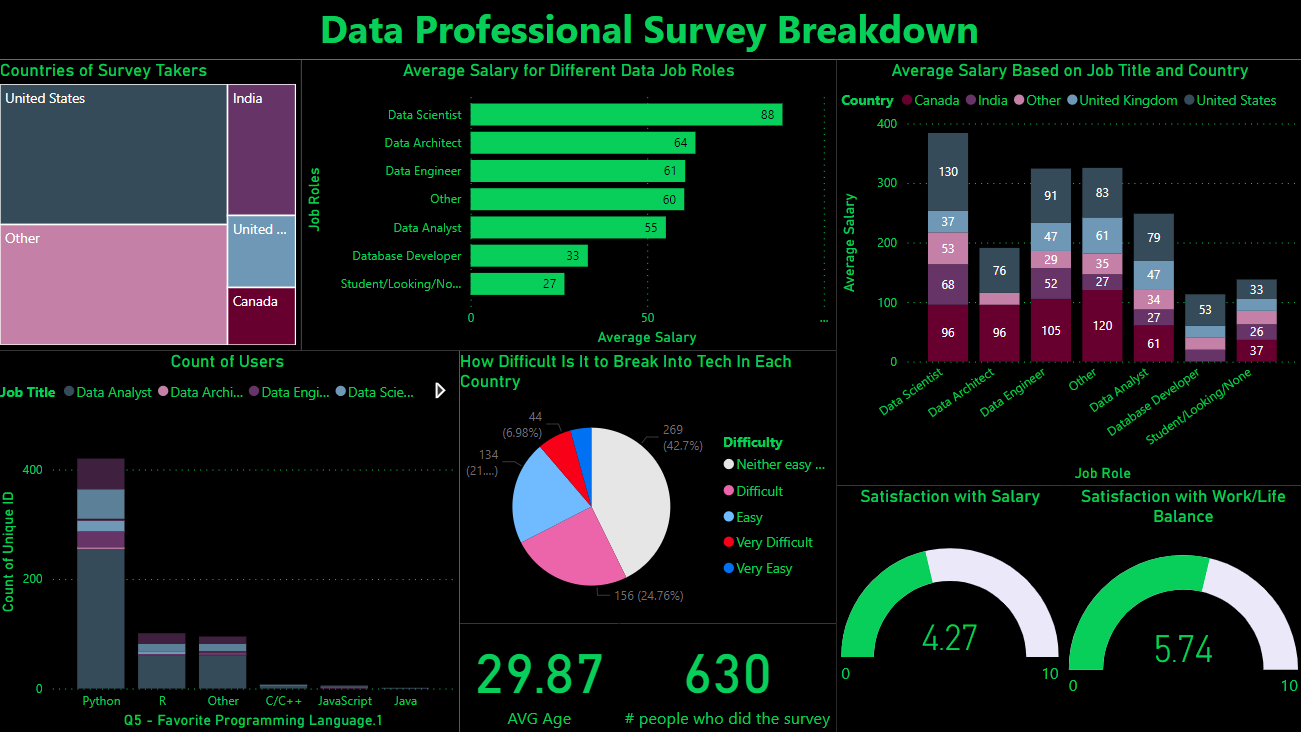

What the dashboard file says about the page in this screenshot:
{"tool":"powerbi","page":{"name":"Page 1","canvas":[1280,720],"ordinal":0},"visuals":[{"type":"textbox","box":[0,0,1279.9,61.1],"z":0},{"type":"card","fields":{"Values":["Count(Data Professional Survey.Unique ID)"]},"box":[610,612.9,212.9,107.1],"z":1000},{"type":"card","fields":{"Values":["Avg(Data Professional Survey.Q10 - Current Age)"]},"box":[454.3,612.9,155.7,107.1],"z":2000},{"type":"barChart","title":"Average Salary for Different Data Job Roles","fields":{"Category":["Data Professional Survey.Q1 - Which Title Best Fits your Current Role?.1"],"Y":["Avg(Data Professional Survey.AVG Salary)"]},"box":[299.5,61.1,523.2,284.8],"z":2001},{"type":"columnChart","title":"Count of Users","fields":{"Category":["Data Professional Survey.Q5 - Favorite Programming Language.1"],"Y":["CountNonNull(Data Professional Survey.Unique ID)"],"Series":["Data Professional Survey.Q1 - Which Title Best Fits your Current Role?.1"]},"box":[0,345.9,454.7,374.1],"z":2002},{"type":"columnChart","title":"Average Salary Based on Job Title and Country","fields":{"Category":["Data Professional Survey.Q1 - Which Title Best Fits your Current Role?.1"],"Y":["Avg(Data Professional Survey.AVG Salary)"],"Series":["Data Professional Survey.Q11 - Which Country do you live in?.1"]},"box":[822.9,61.4,457.1,417.1],"z":2003},{"type":"gauge","title":"Satisfaction with Work/Life Balance","fields":{"Y":["Avg(Data Professional Survey.Q6 - How Happy are you in your Current Position with the following? (Work/Life Balance))"],"MinValue":["Min(Data Professional Survey.Q6 - How Happy are you in your Current Position with the following? (Work/Life Balance))1"],"MaxValue":["Max(Data Professional Survey.Q6 - How Happy are you in your Current Position with the following? (Work/Life Balance))2"]},"box":[1045.7,478.6,234.3,241.4],"z":2004},{"type":"gauge","title":"Satisfaction with Salary","fields":{"Y":["Avg(Data Professional Survey.Q6 - How Happy are you in your Current Position with the following? (Salary))"],"MinValue":["Min(Data Professional Survey.Q6 - How Happy are you in your Current Position with the following? (Salary))"],"MaxValue":["Max(Data Professional Survey.Q6 - How Happy are you in your Current Position with the following? (Salary))"]},"box":[822.9,478.6,222.9,241.4],"z":2005},{"type":"treemap","title":"Countries of Survey Takers","fields":{"Group":["Data Professional Survey.Q11 - Which Country do you live in?.1"],"Values":["CountNonNull(Data Professional Survey.Q11 - Which Country do you live in?.1)"]},"box":[0,61.6,299.2,284.5],"z":2007},{"type":"pieChart","title":"How Difficult Is It to Break Into Tech In Each Country","fields":{"Category":["Data Professional Survey.Q7 - How difficult was it for you to break into Data?"],"Y":["CountNonNull(Data Professional Survey.Q11 - Which Country do you live in?.1)"]},"box":[454.7,345.9,367.9,266.5],"z":2008}]}

Visuals, with their boxes in screenshot pixels (x1, y1, x2, y2), scaled from the page's 1280x720 canvas onto the 1301x732 screenshot:
textbox: box(0, 0, 1300, 62)
card - Count(Data Professional Survey.Unique ID): box(620, 623, 836, 731)
card - Avg(Data Professional Survey.Q10 - Current Age): box(462, 623, 620, 731)
"Average Salary for Different Data Job Roles" barChart: box(304, 62, 836, 352)
"Count of Users" columnChart: box(0, 352, 462, 731)
"Average Salary Based on Job Title and Country" columnChart: box(836, 62, 1300, 486)
"Satisfaction with Work/Life Balance" gauge: box(1063, 487, 1300, 731)
"Satisfaction with Salary" gauge: box(836, 487, 1063, 731)
"Countries of Survey Takers" treemap: box(0, 63, 304, 352)
"How Difficult Is It to Break Into Tech In Each Country" pieChart: box(462, 352, 836, 623)
